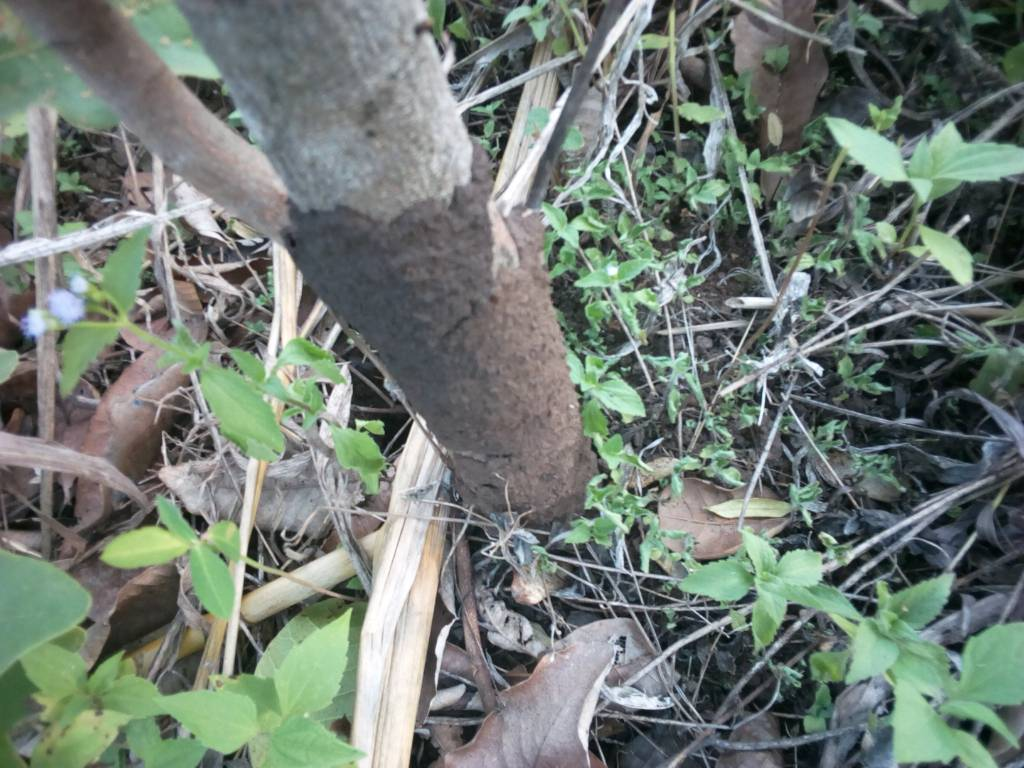Termites: (315, 216, 587, 490)
